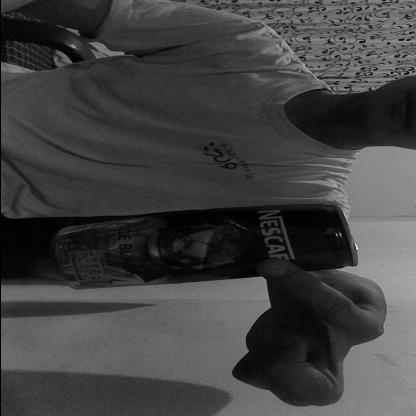alumunium_can: (60, 200, 357, 290)
